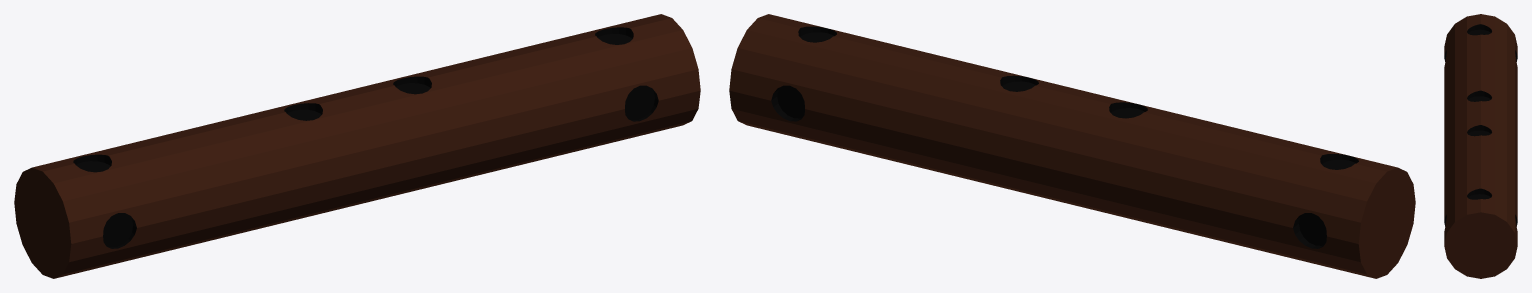
The model's file is Rura.fbx.
3 views of the same model, side by side, from view 1: azimuth 30°, elevation 25°; view 2: azimuth 150°, elevation 25°; view 3: azimuth 270°, elevation 25° (orthographic). The views are drawn at different scales.
Parts seen in each view (by area): view 1: Cylinder.007; view 2: Cylinder.007; view 3: Cylinder.007.
Part boxes in pixels (x1,y1,x2,y2): Cylinder.007: [14, 14, 700, 278]; Cylinder.007: [729, 14, 1415, 278]; Cylinder.007: [1444, 14, 1517, 278].
Bounding box in the file's own units: 240 × 37.66 × 37.66.
